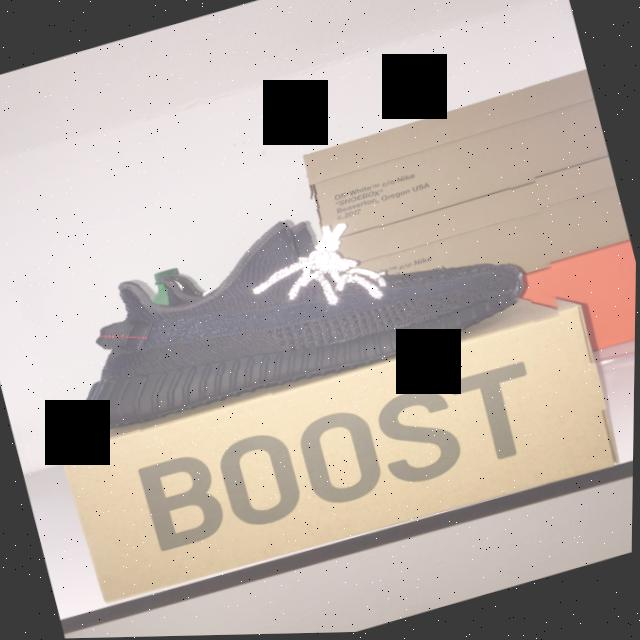shoe: (40, 126, 580, 465)
